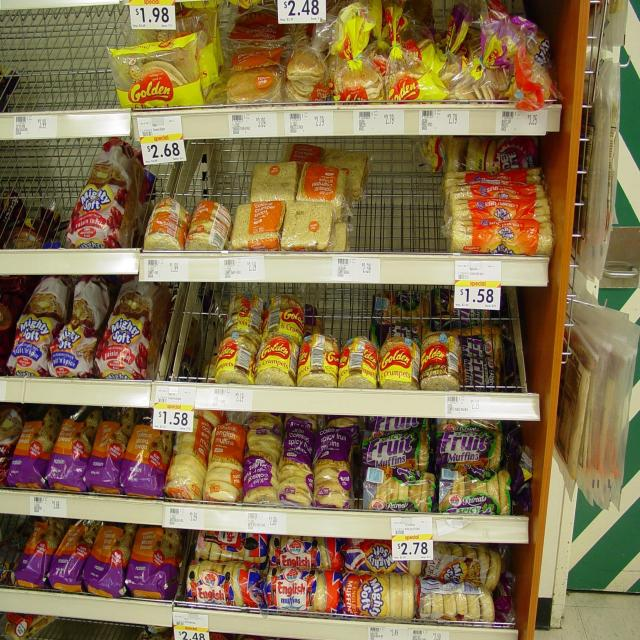void: (7, 26, 111, 111), (368, 165, 444, 252), (308, 284, 451, 329), (4, 163, 70, 247), (466, 320, 514, 388), (199, 152, 250, 200), (190, 301, 212, 379)
